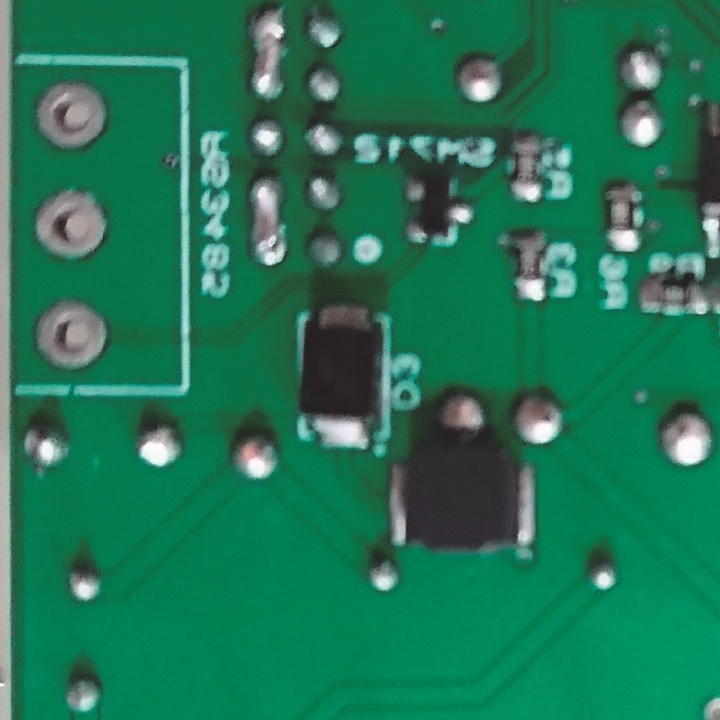F: (30, 299, 112, 375), (32, 78, 113, 151), (32, 189, 115, 260)
P: (247, 176, 289, 272), (244, 6, 287, 99)
